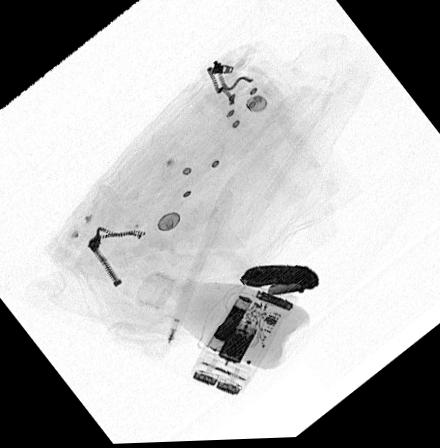Knife: (238, 265, 322, 303)
